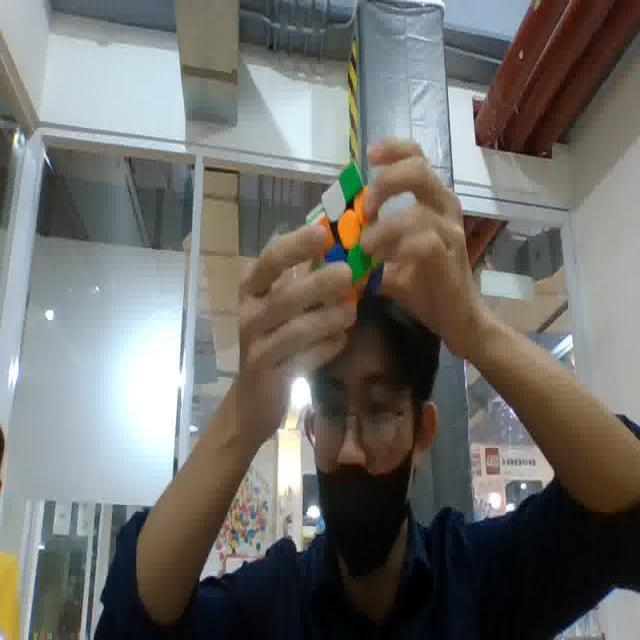Rub: (307, 161, 386, 306)
